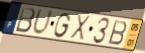3: (92, 17, 111, 46)
B: (14, 6, 37, 35), (107, 19, 128, 46)
G: (53, 12, 72, 39)
U: (31, 7, 55, 37)
X: (68, 13, 92, 42)
